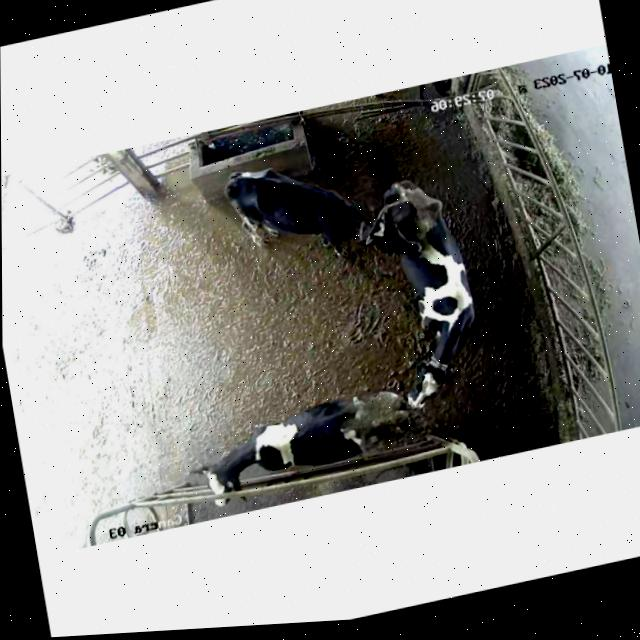propping: (319, 183, 446, 292)
